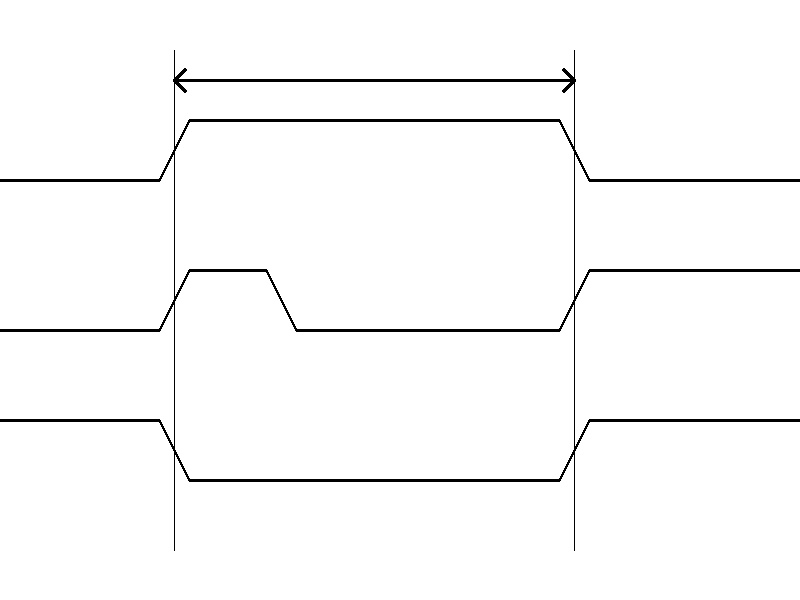double_arrow: (174, 65, 574, 95)
